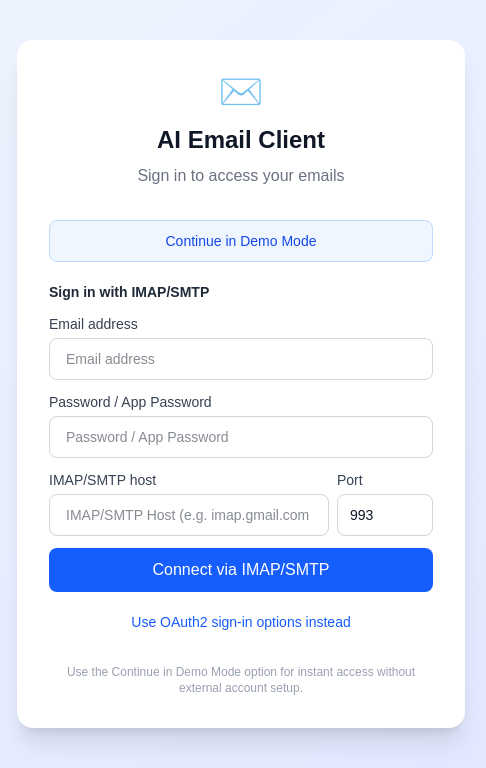
Test: LoginPage › shows a Yahoo/AOL-specific hint on credentials failure
Type "person@yahoo.com" into the field labelled "Email address" at [241, 359], box [49,338,433,380]
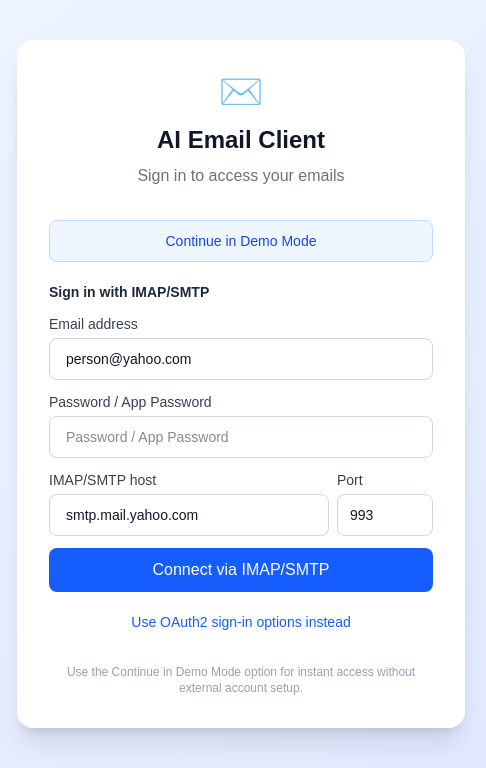
Type "bad-password" into the password field labelled "Password / App Password" at [241, 437], box [49,416,433,458]
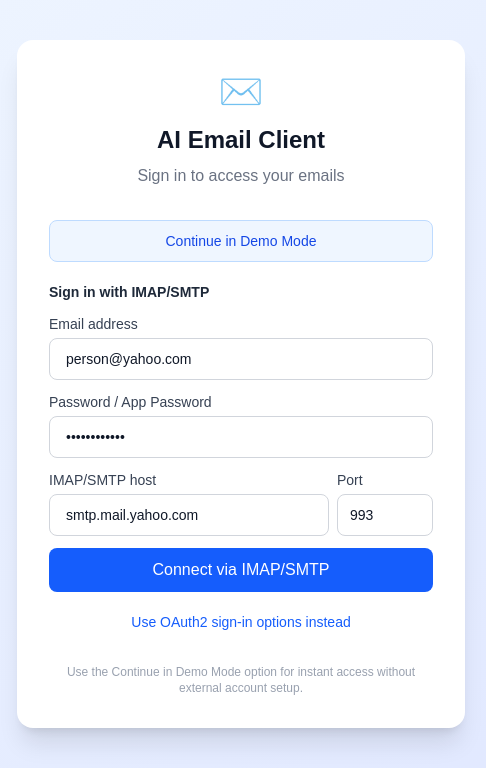
Click the button "Connect via IMAP/SMTP" at [241, 570], box [49,548,433,592]
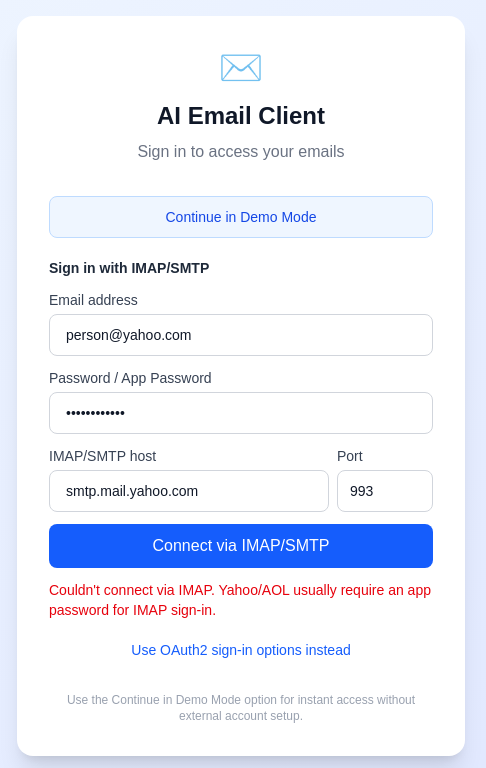
Expected: the message shows "Yahoo/AOL", [49,582,431,618]
Expected: the message shows "app password", [49,582,431,618]
